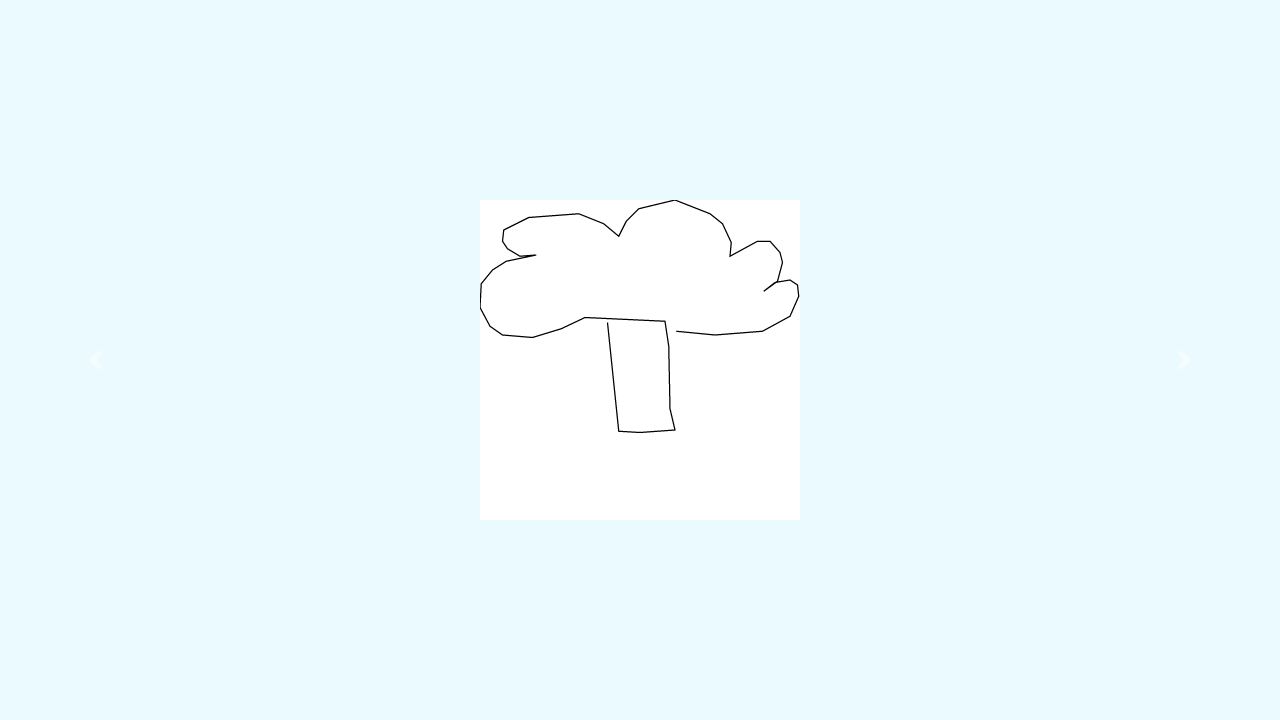tree: (473, 192, 805, 444)
